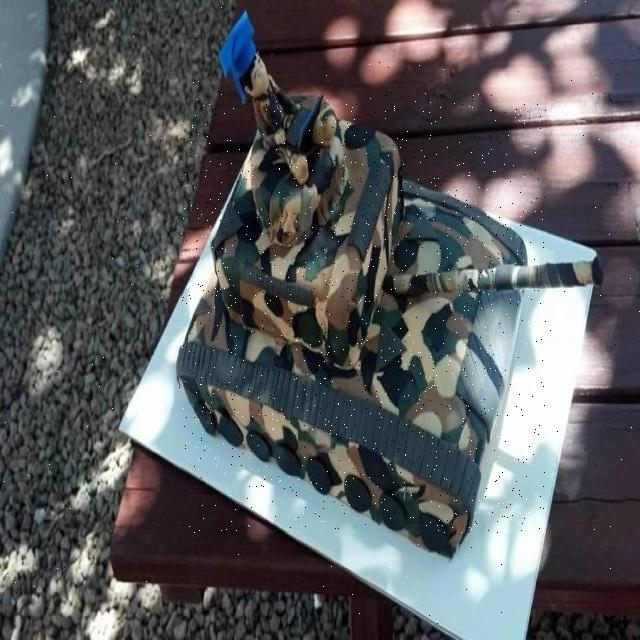MIL_MBT: (181, 94, 545, 533)
